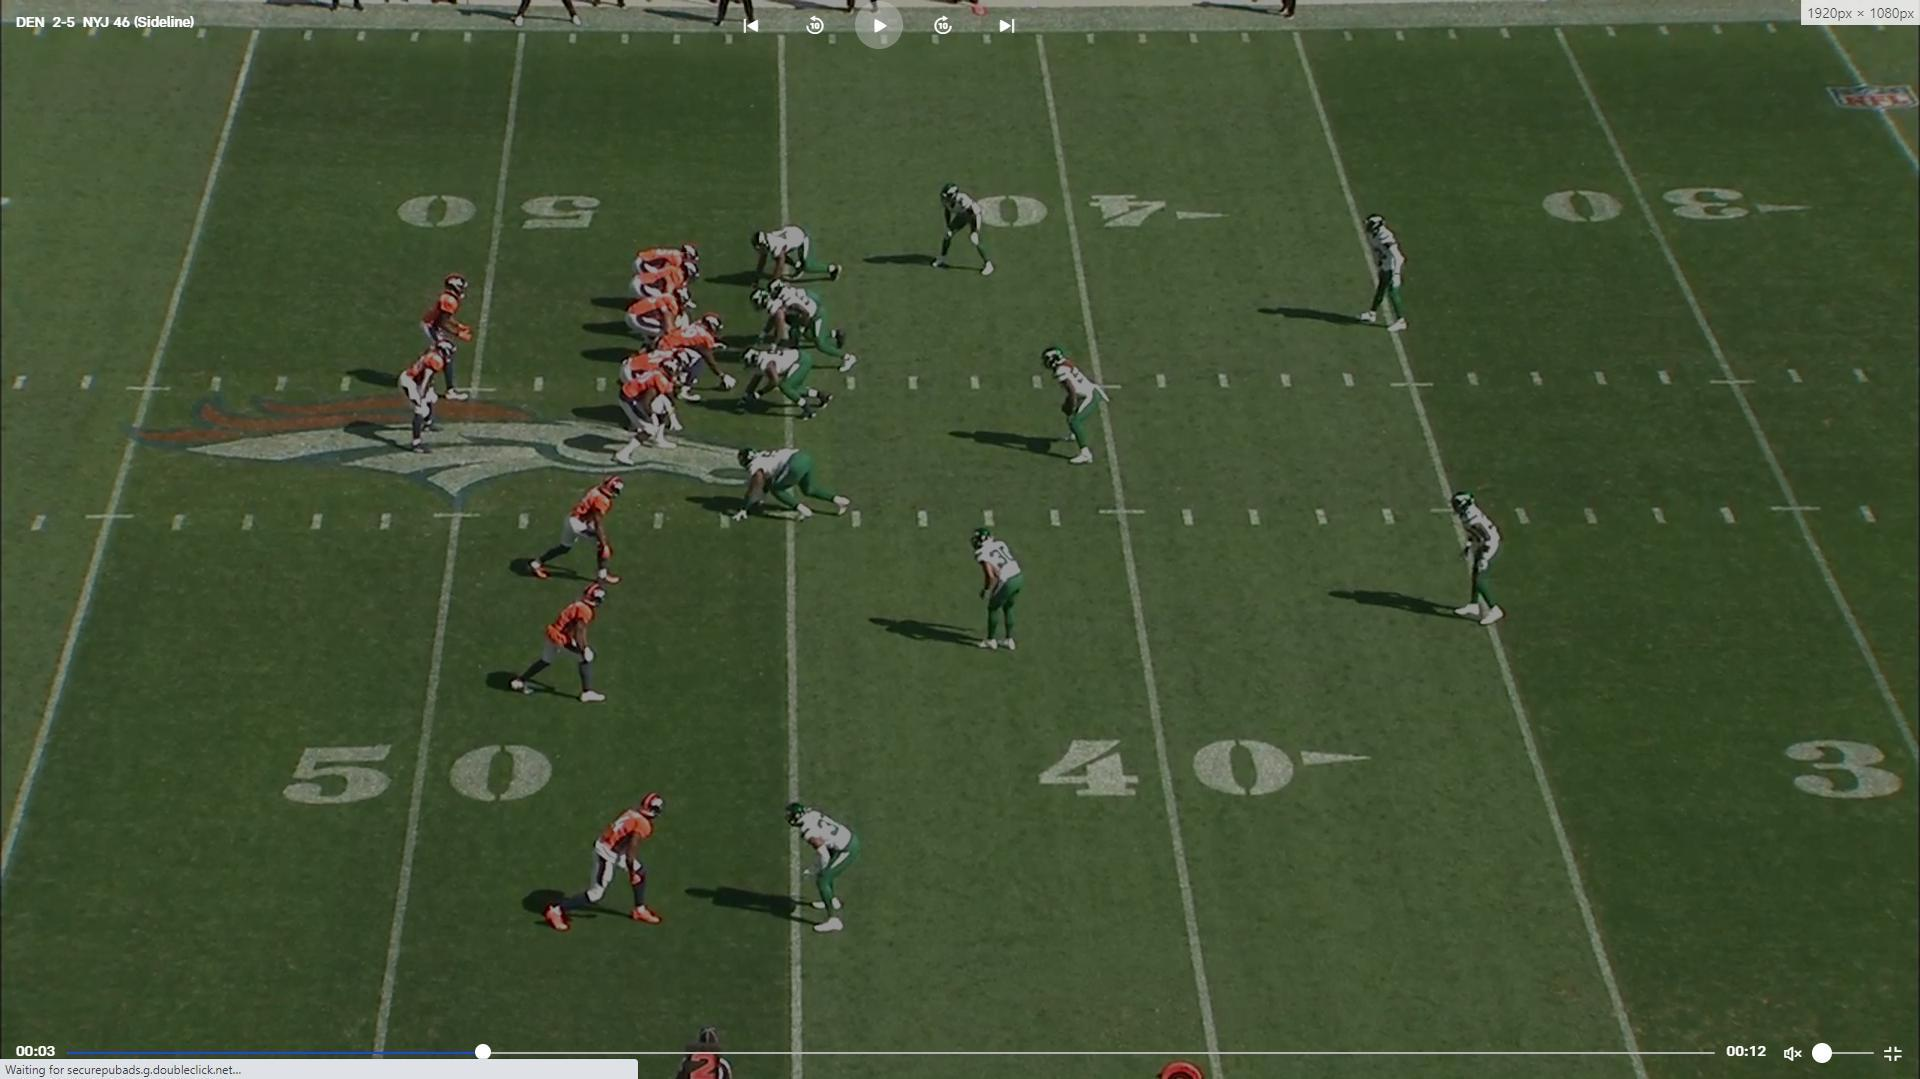defense: (782, 793, 869, 943), (735, 443, 862, 526), (1448, 487, 1514, 636), (964, 525, 1030, 663), (756, 280, 862, 364), (1040, 346, 1104, 474), (1357, 206, 1415, 340), (932, 181, 1001, 282), (742, 344, 833, 419), (748, 286, 851, 350), (748, 220, 841, 288)
oline: (611, 355, 686, 468), (657, 311, 729, 402), (621, 342, 688, 433), (628, 280, 690, 347), (629, 259, 700, 299)
qb: (422, 274, 476, 405)
skill: (546, 787, 676, 938), (508, 572, 625, 707), (525, 471, 630, 588), (397, 336, 462, 458), (628, 240, 702, 276)
